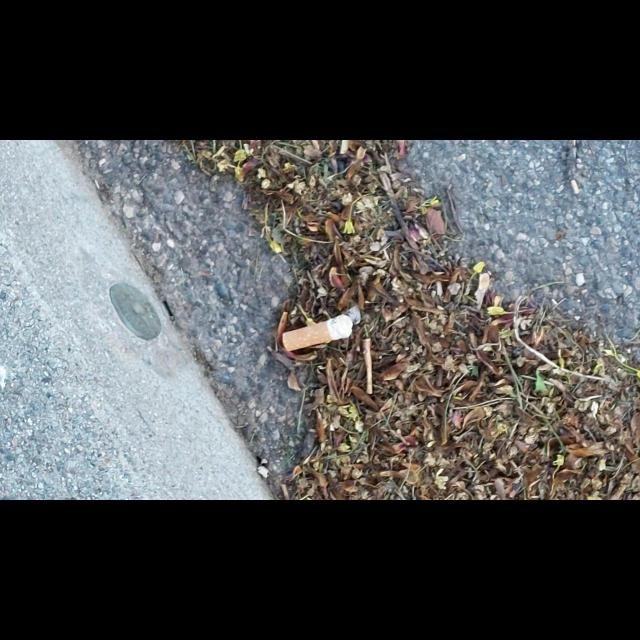cigarette: (282, 313, 354, 352)
